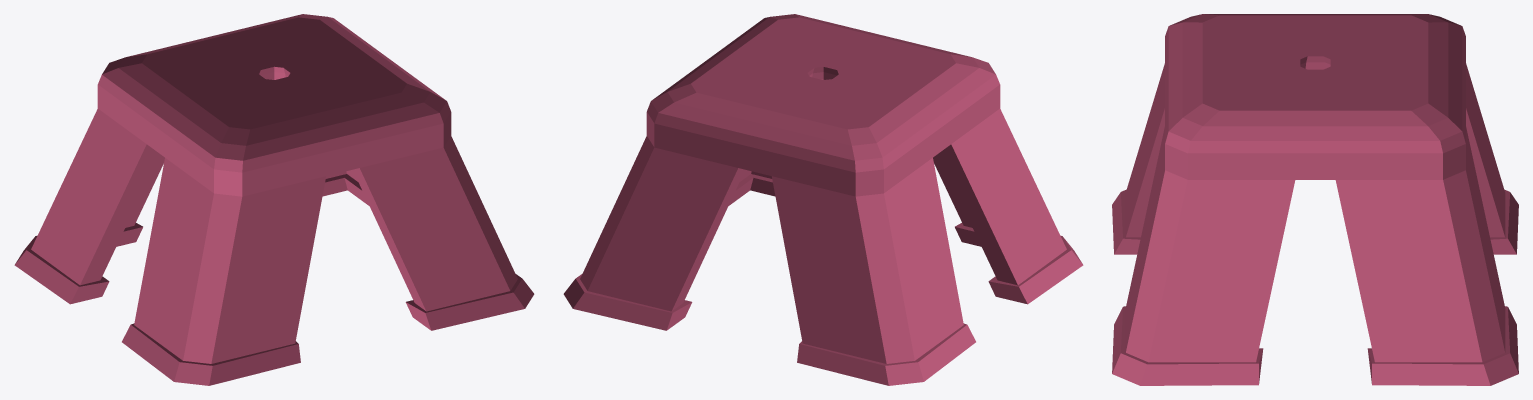
File: Stool 2.fbx
3 renders of one model, left to right at view 1: azimuth 30°, elevation 25°; view 2: azimuth 150°, elevation 25°; view 3: azimuth 270°, elevation 25°, orthographic. The views are drawn at different scales.
Parts seen in each view (by area): view 1: Node 0; view 2: Node 0; view 3: Node 0.
Boxes of the visible parts, box(x1,y1,x2,y2) form: Node 0: box(14, 14, 534, 385); Node 0: box(563, 14, 1083, 385); Node 0: box(1112, 14, 1518, 385).
Bounding box in the file's own units: 0.7055 × 0.4333 × 0.7924.
